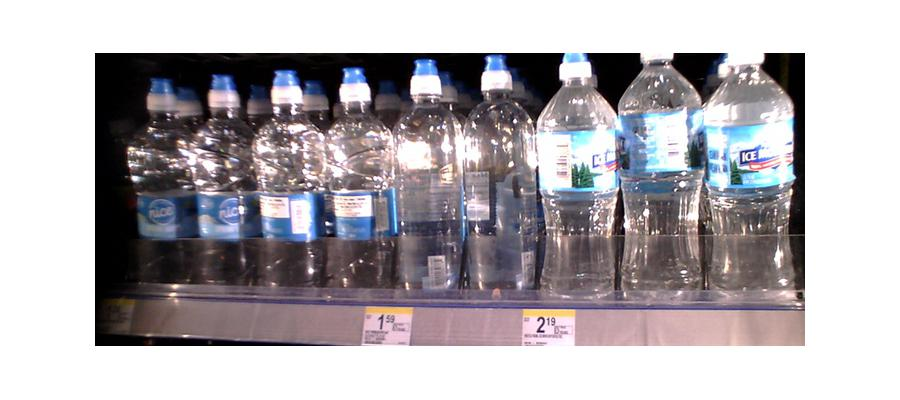bottle: (702, 56, 795, 306), (620, 49, 705, 299), (536, 57, 622, 304), (462, 56, 543, 299), (392, 60, 462, 300), (122, 72, 195, 289), (323, 70, 393, 292), (251, 79, 320, 292), (192, 92, 252, 286)
